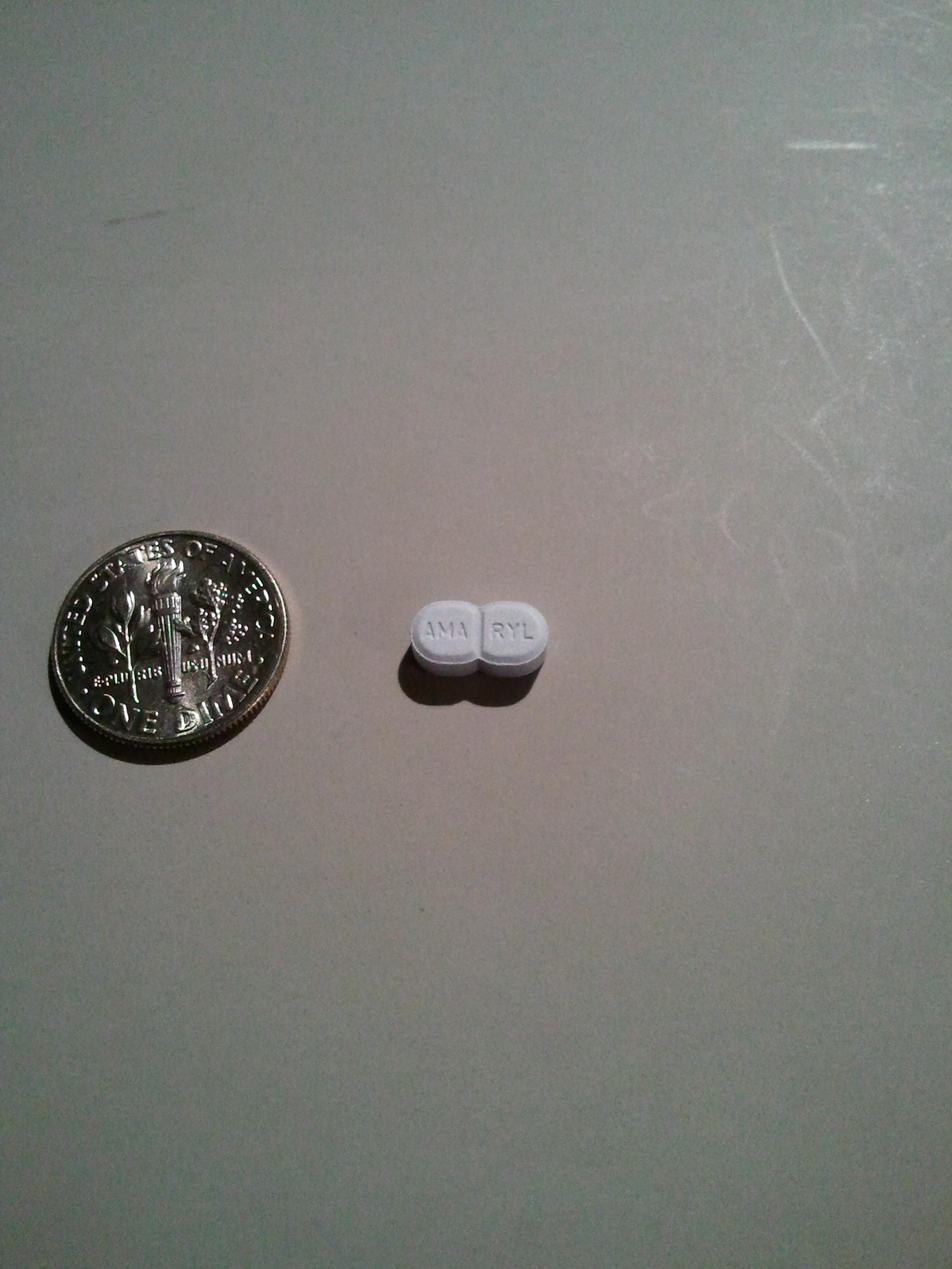Pill: (402, 587, 561, 692)
